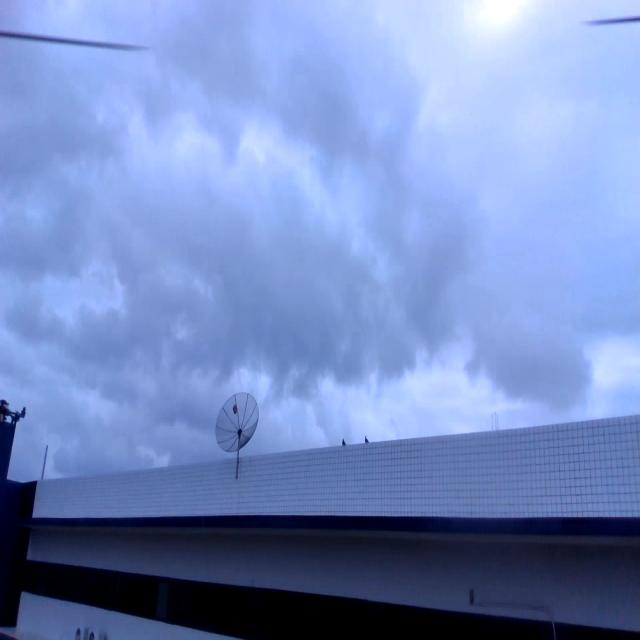-uav-: (0, 389, 28, 450)
